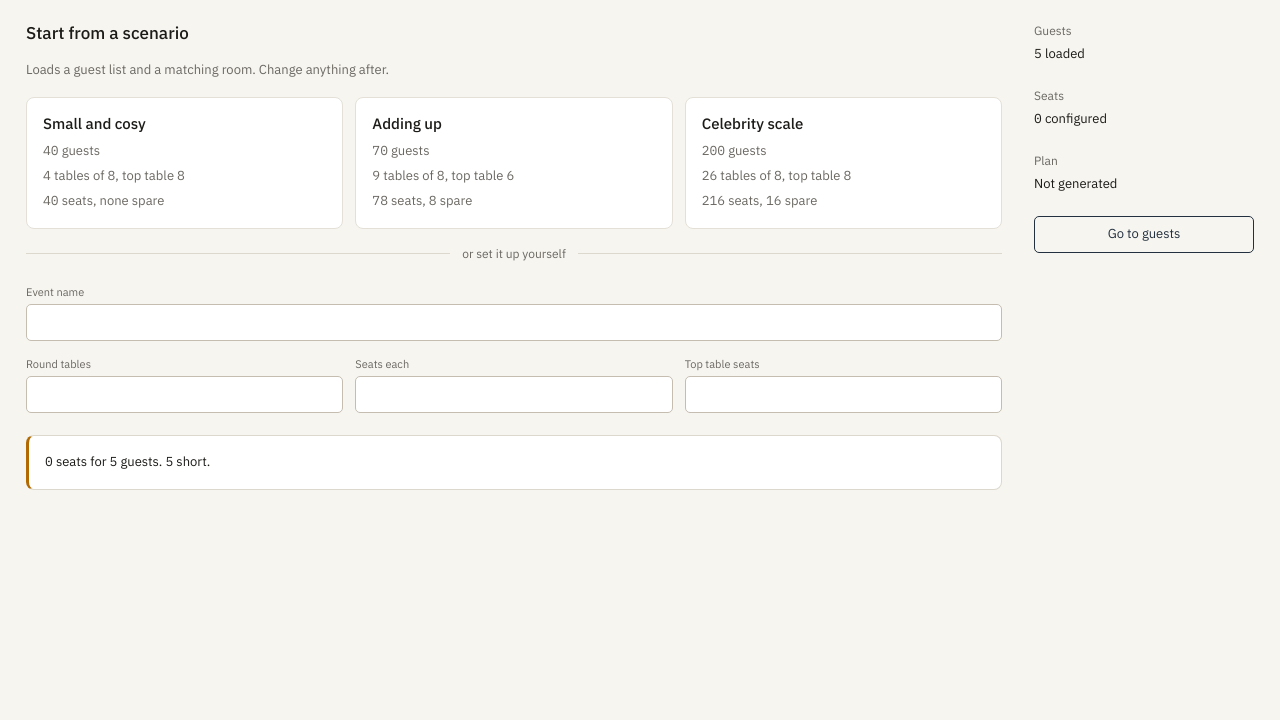
Scenario: confirmation is required over existing data (C4) › asks first when guests are already seeded
The image size is (1280, 720).
Click the button "Adding up".
click(407, 123)  # box x1=355 y1=97 x2=673 y2=229
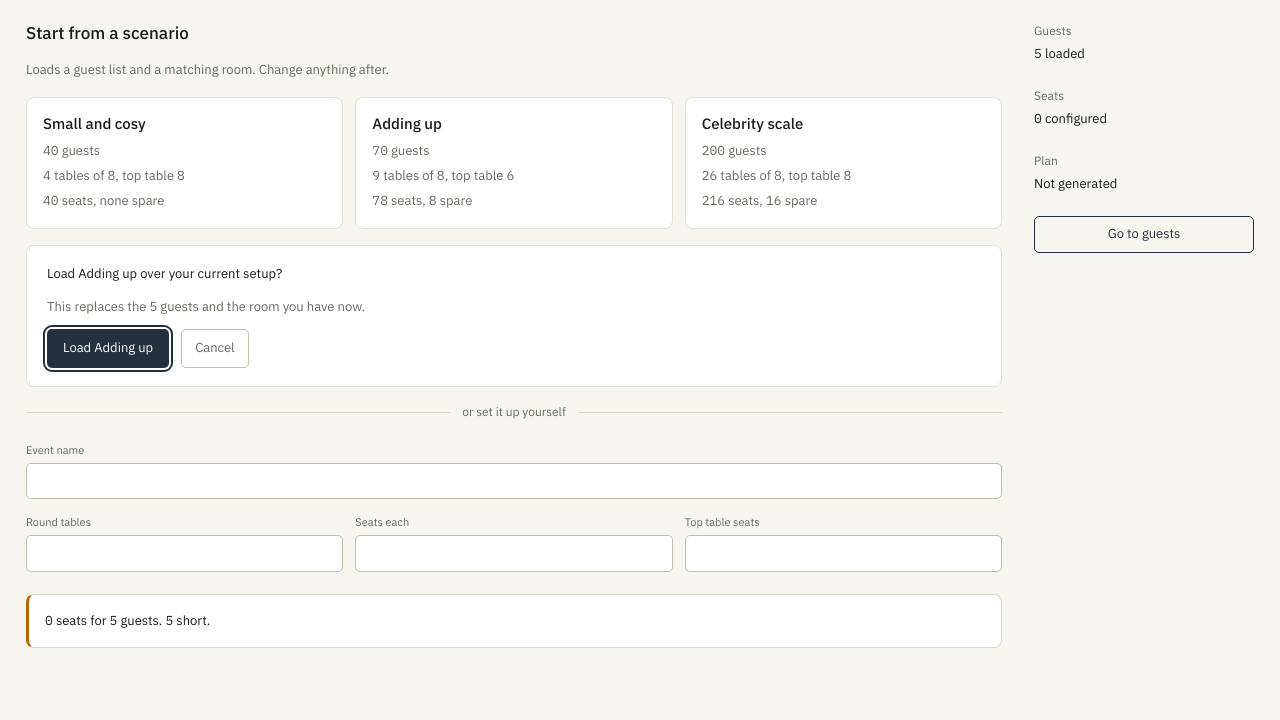
expect the text "Load Adding up over your current setup?" is shown: met, box x1=47 y1=265 x2=282 y2=282
